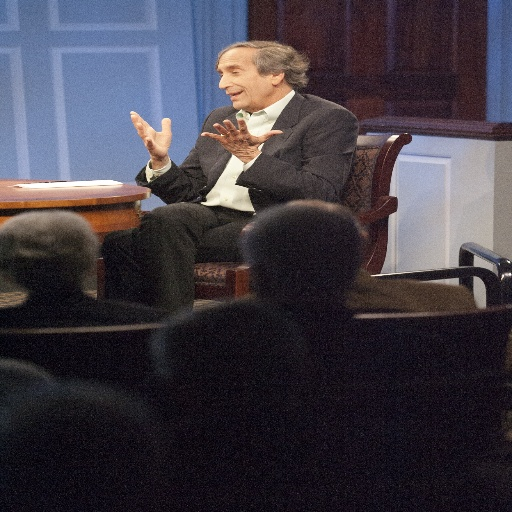hand: (199, 117, 286, 157), (124, 105, 176, 161)
